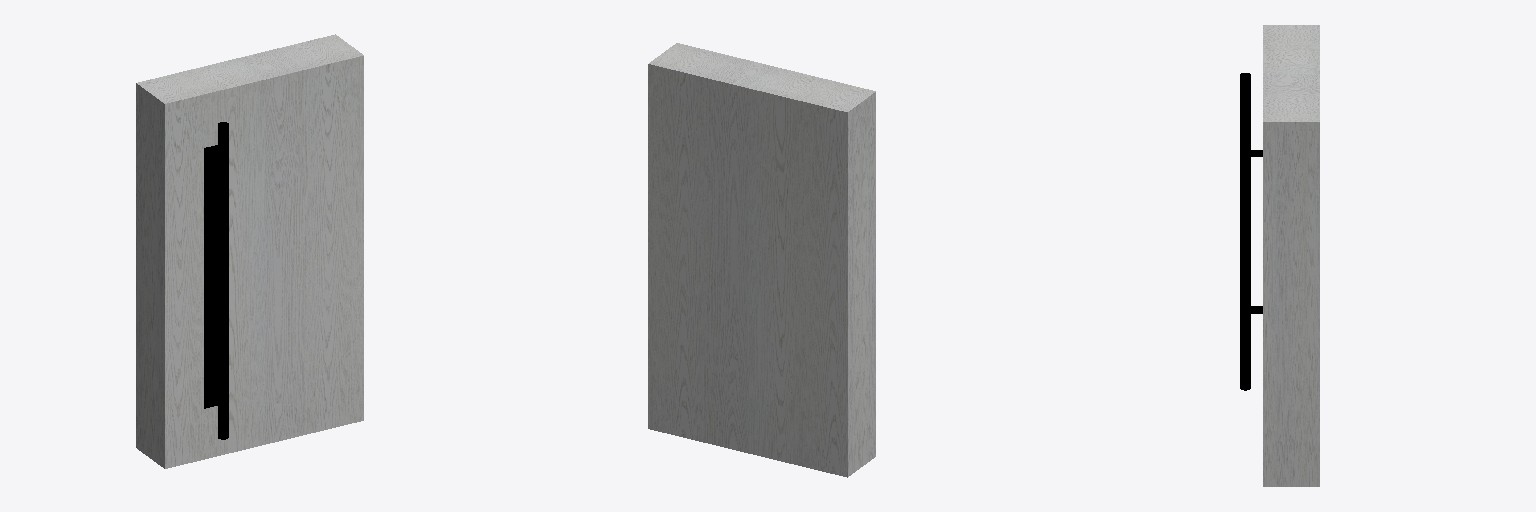
The picture shows the model from 3 angles: view 1: azimuth 30°, elevation 25°; view 2: azimuth 150°, elevation 25°; view 3: azimuth 270°, elevation 25°; orthographic projection.
Parts seen in each view (by area): view 1: pCube4; view 2: pCube4; view 3: pCube4.
Part boxes in pixels (x1,y1,x2,y2): pCube4: (136, 34, 363, 468); pCube4: (648, 43, 875, 477); pCube4: (1240, 25, 1319, 486).
Size of the model in its own units: 40 by 70 by 14.
Materials: 4 (1 with a texture image).